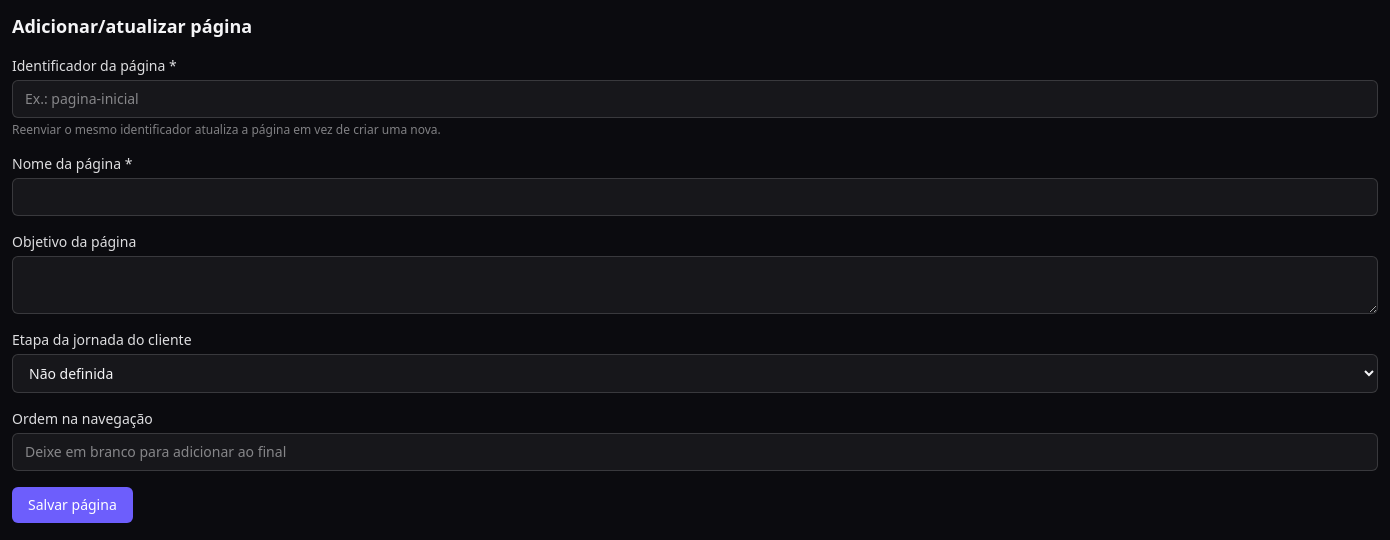
SitePageForm › shows a pending state while the action is running
The width and height of the screenshot is (1390, 540).
Click the button "Salvar página": click(72, 505) [12, 487, 133, 523]
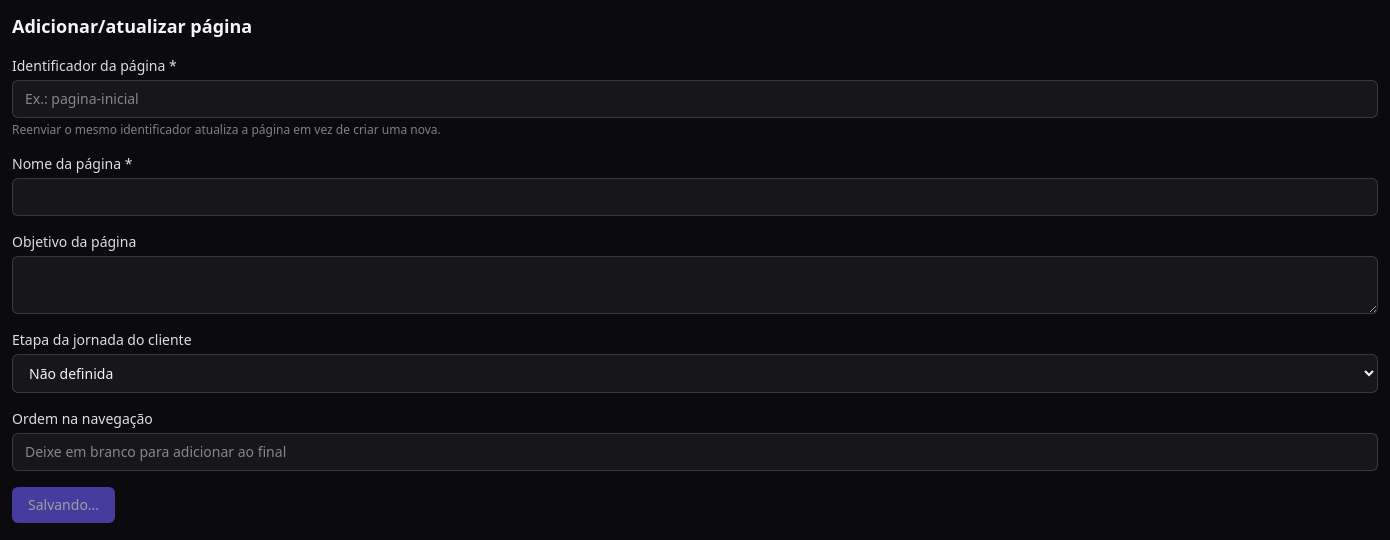
Check: the button "Salvando..." is disabled, box [12, 487, 115, 523]
